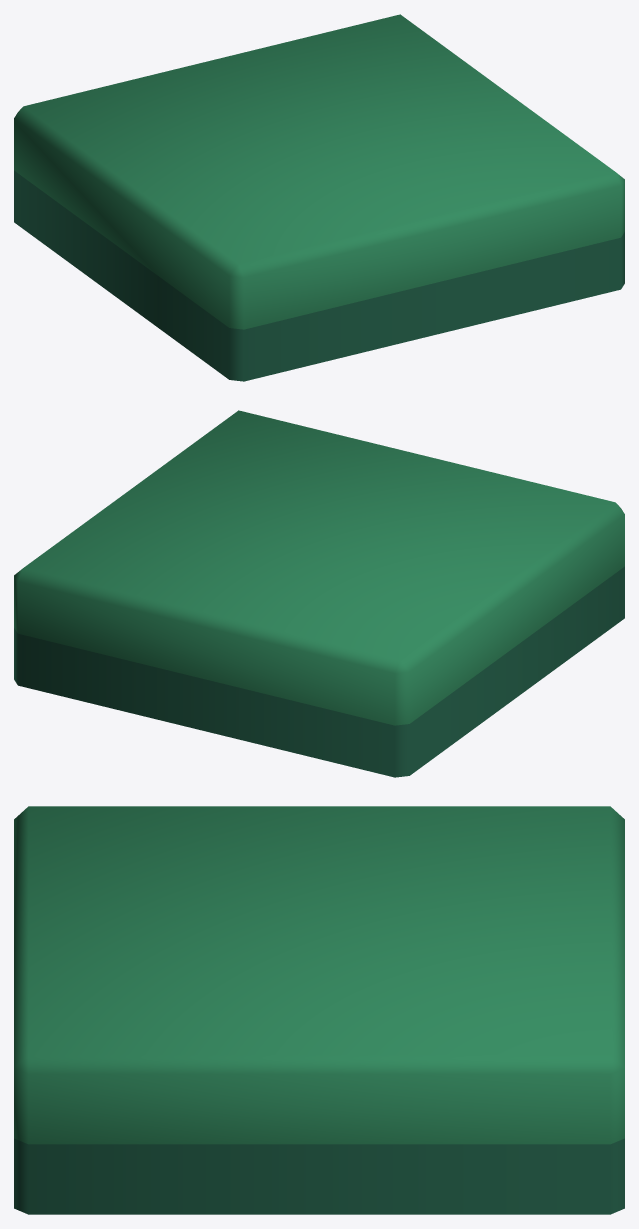
The model's file is RoofAdd_2_B_3.fbx.
The picture shows the model from 3 angles, top to bottom: view 1: azimuth 30°, elevation 25°; view 2: azimuth 150°, elevation 25°; view 3: azimuth 270°, elevation 25°; orthographic projection. The views are drawn at different scales.
Visible parts, largest first — view 1: RoofAdd_2_B_3; view 2: RoofAdd_2_B_3; view 3: RoofAdd_2_B_3.
Part boxes in pixels (left/top/right/bottom): RoofAdd_2_B_3: left=14, top=14, right=624, bottom=381; RoofAdd_2_B_3: left=14, top=410, right=624, bottom=777; RoofAdd_2_B_3: left=14, top=806, right=624, bottom=1214.
Bounding box in the file's own units: 270 × 74.17 × 267.
